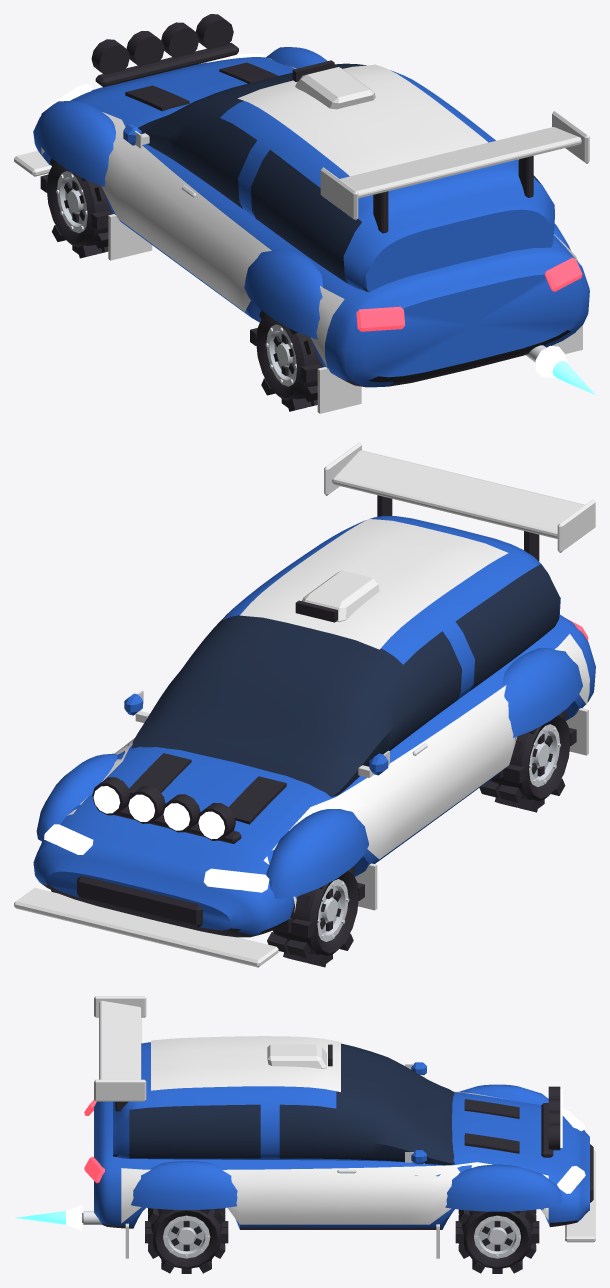
File: car_rally.glb
The picture shows the model from 3 angles, top to bottom: view 1: azimuth 30°, elevation 25°; view 2: azimuth 150°, elevation 25°; view 3: azimuth 270°, elevation 25°; orthographic projection. The views are drawn at different scales.
Parts seen in each view (by area): view 1: Body, Vinyl, Spoiler, WheelRL, WheelFL, NitroFlame; view 2: Body, Vinyl, Spoiler, WheelFL, WheelRL; view 3: Body, Vinyl, Spoiler, WheelRR, WheelFR, NitroFlame.
Boxes of the visible parts, x1,y1,x2,y2 form: Body: (14, 14, 589, 413); Vinyl: (41, 57, 578, 368); Spoiler: (320, 111, 589, 233); WheelRL: (250, 310, 323, 411); WheelFL: (40, 158, 112, 258); NitroFlame: (535, 345, 595, 394); Body: (14, 516, 595, 967); Vinyl: (41, 519, 589, 912); Spoiler: (324, 442, 595, 561); WheelFL: (267, 866, 364, 967); WheelRL: (479, 710, 576, 812); Body: (82, 1042, 595, 1258); Vinyl: (121, 1036, 548, 1224); Spoiler: (94, 996, 146, 1111); WheelRR: (145, 1208, 228, 1273); WheelFR: (455, 1209, 539, 1273); NitroFlame: (15, 1205, 82, 1230).
Bounding box in the file's own units: 2.05 × 1.77 × 4.91.
